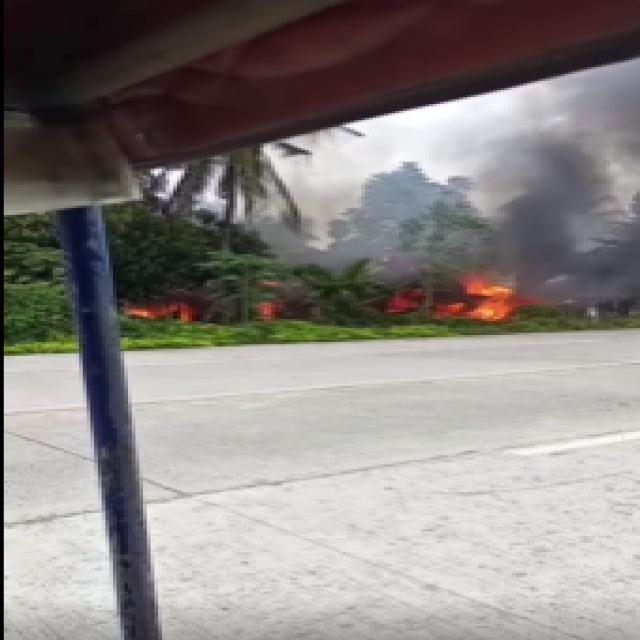Fire: (444, 266, 530, 328)
Smoke: (480, 96, 640, 300)
